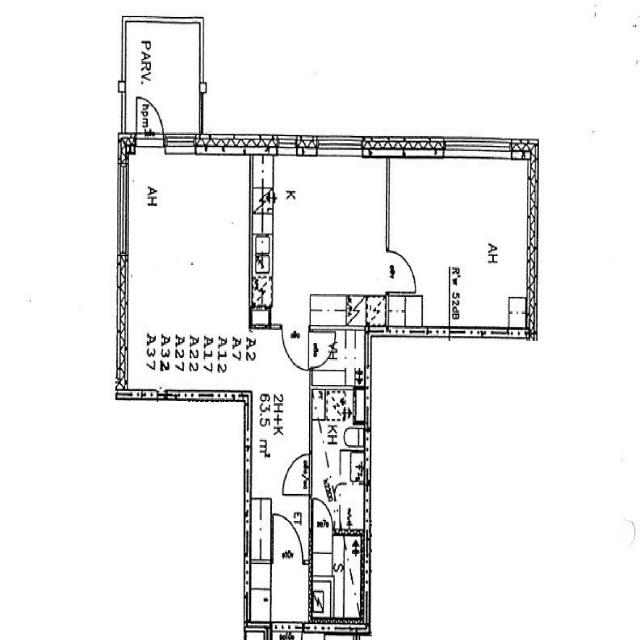door: (136, 93, 163, 155), (272, 513, 302, 564), (386, 251, 417, 293), (282, 454, 312, 495), (282, 327, 308, 371), (309, 333, 335, 368), (313, 499, 333, 535)
